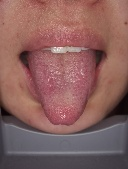tongue: (26, 55, 96, 126)
